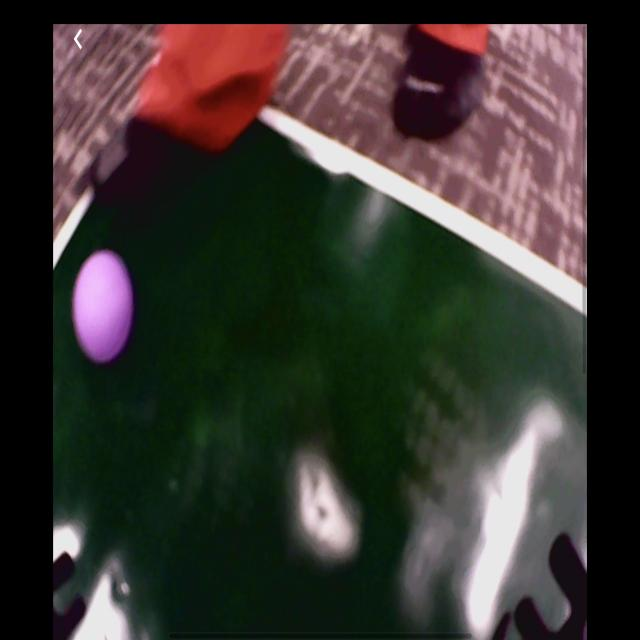ball: (71, 250, 135, 368)
